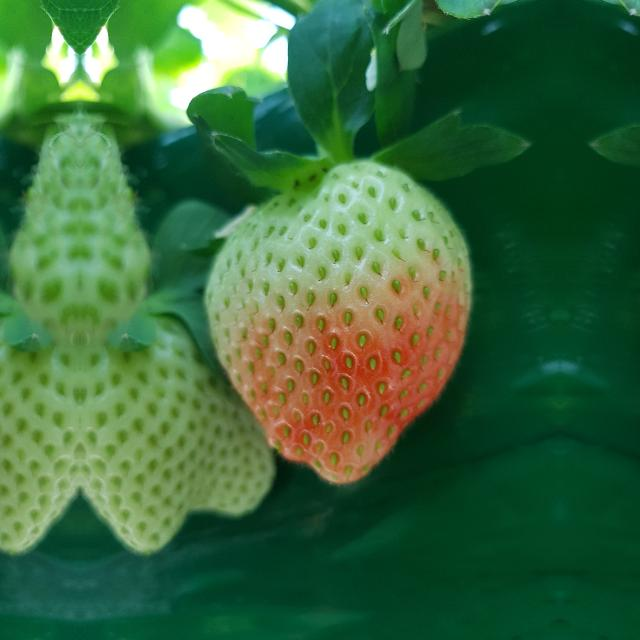Health_50: (203, 160, 472, 486)
